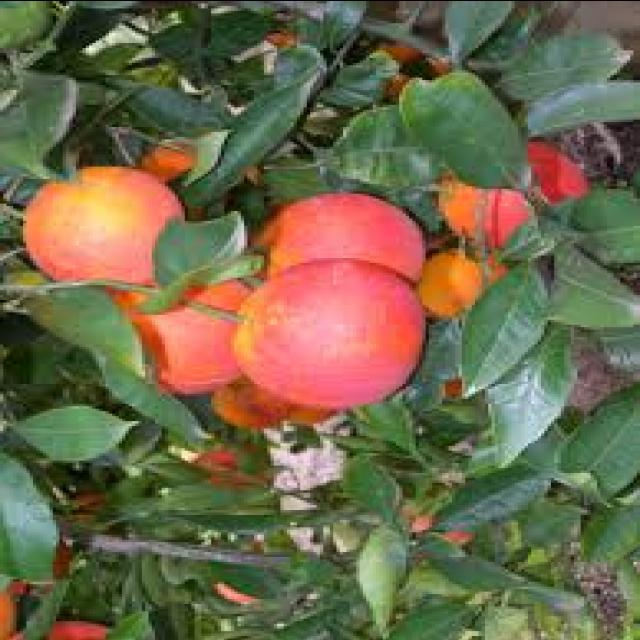orange: (224, 250, 416, 408)
